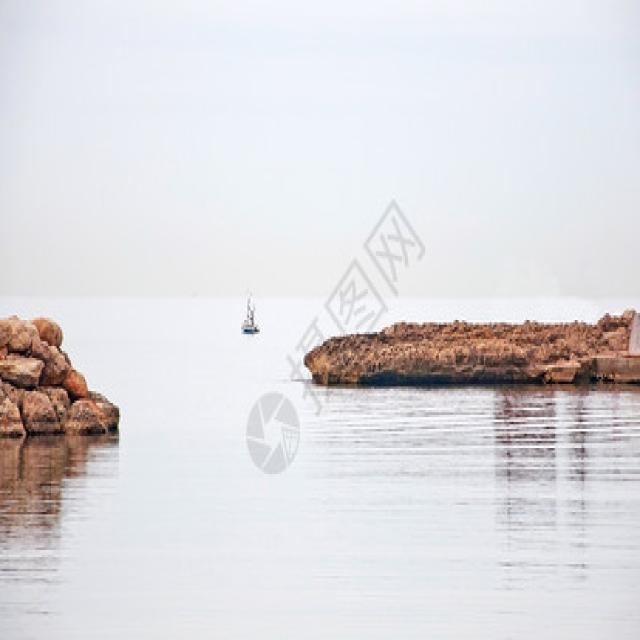fishing boat: (229, 294, 264, 348)
reef: (293, 308, 640, 398), (0, 291, 134, 426)
